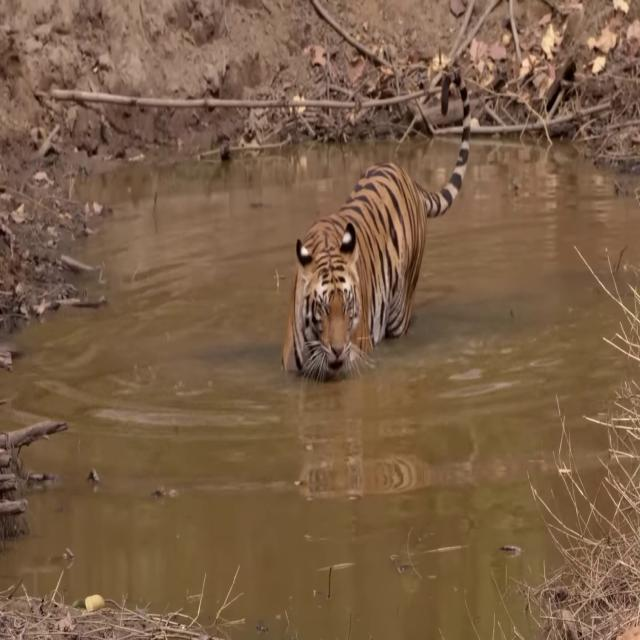tiger: (280, 65, 471, 378)
